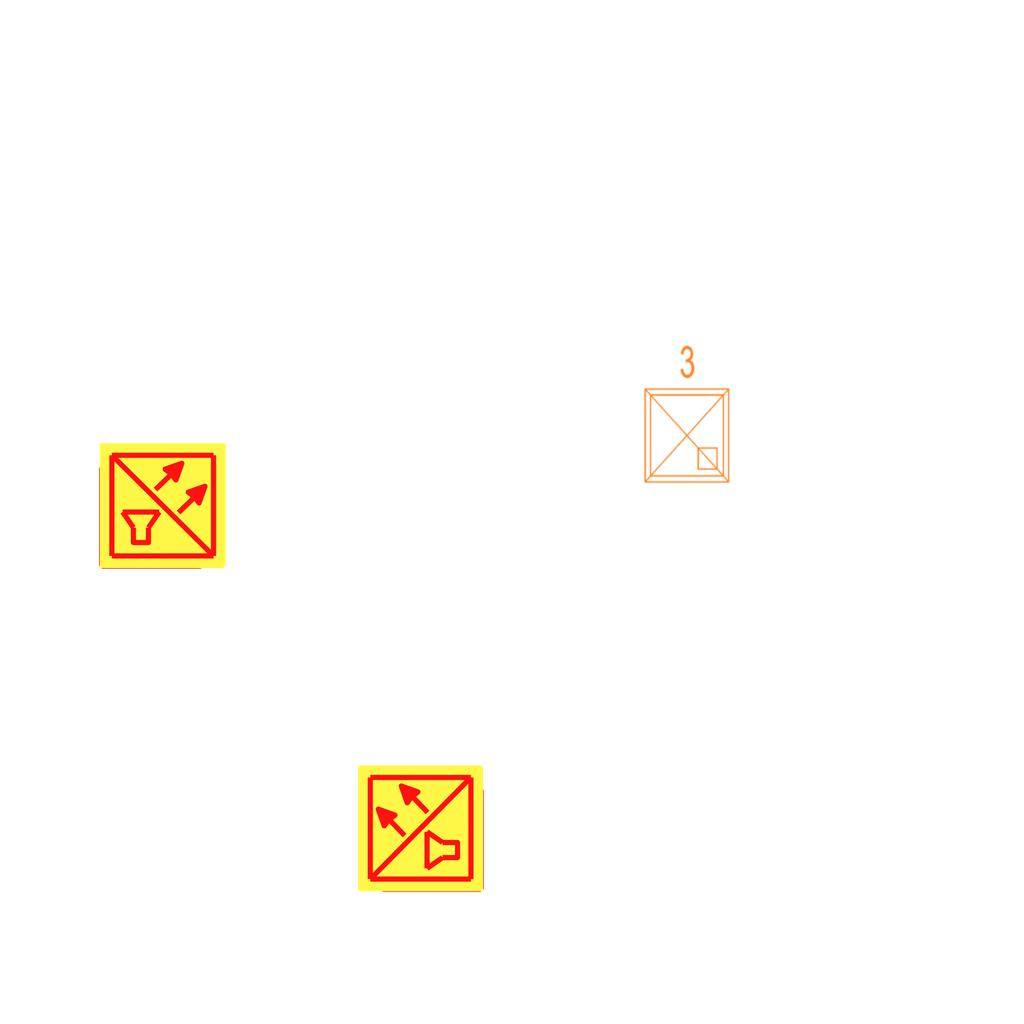Einbaudownlights_LED_Konferenzraeume: (633, 340, 737, 490)
OKW_Multisensormelder_(Kombination_optischer_Rauch-Kahlenmonoxid_Waerme-Melder): (97, 440, 229, 572), (355, 762, 487, 894)
